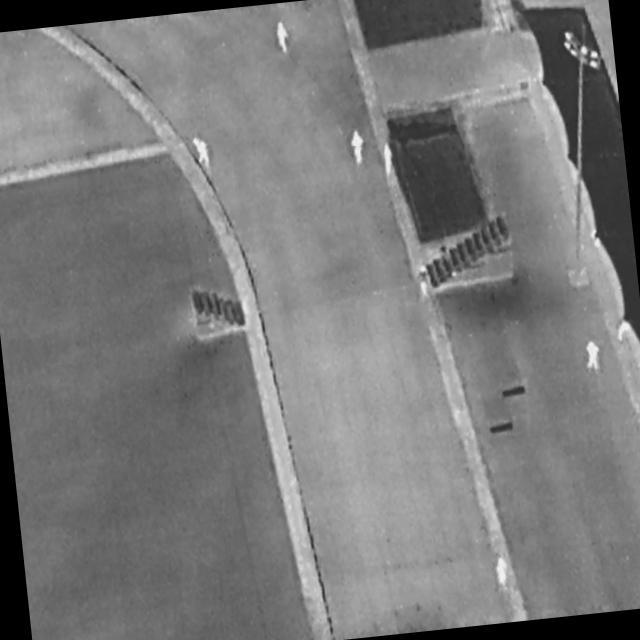person: (348, 127, 367, 167), (273, 18, 293, 55), (584, 337, 603, 374), (191, 134, 211, 166), (494, 554, 511, 588), (381, 140, 396, 176)
